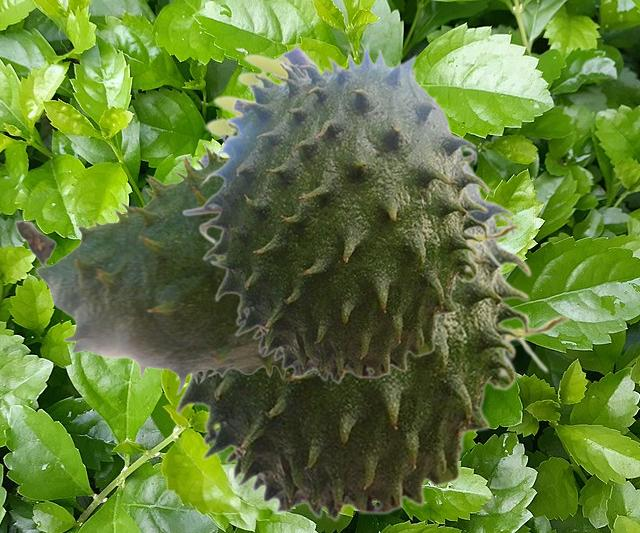guyabano: (173, 82, 571, 522), (181, 40, 520, 384), (14, 132, 297, 395)
